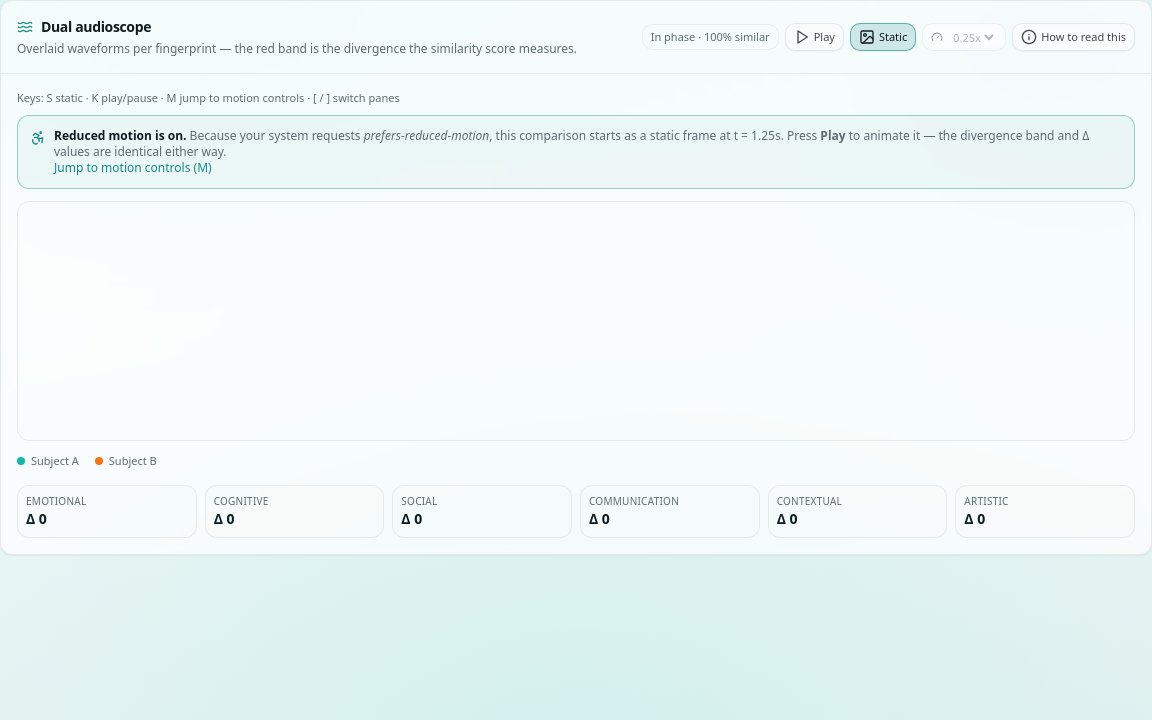
Test case: Dual audioscope Static parity › Play leaves Static and Static halts motion, persisting the choice
The width and height of the screenshot is (1152, 720).
Later steps or results of the test are not shown.
What coordinates should you click on to do the following:
click the button "Play"
I would click on:
 (814, 37)
Its box is [785,23,844,51].
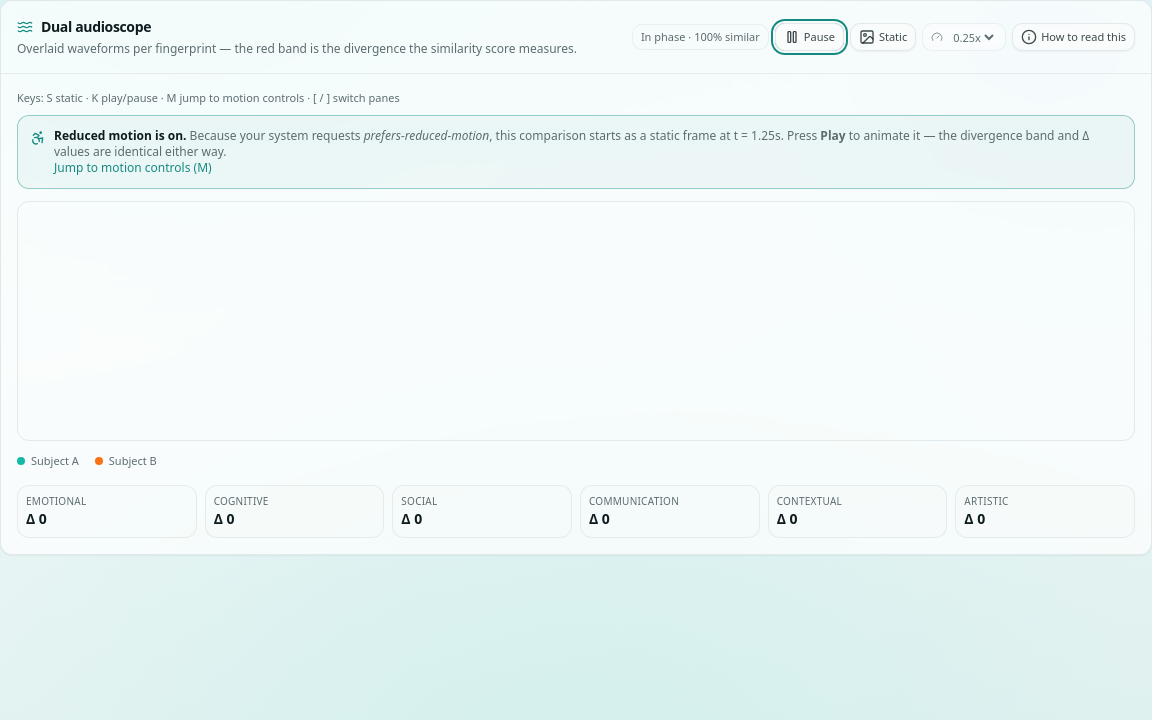
Check: the button "Pause" is shown, box [775,23,844,51]
What coordinates should you click on to do the following:
click the button "Static"
I would click on:
 (883, 37)
Its box is [850,23,916,51].
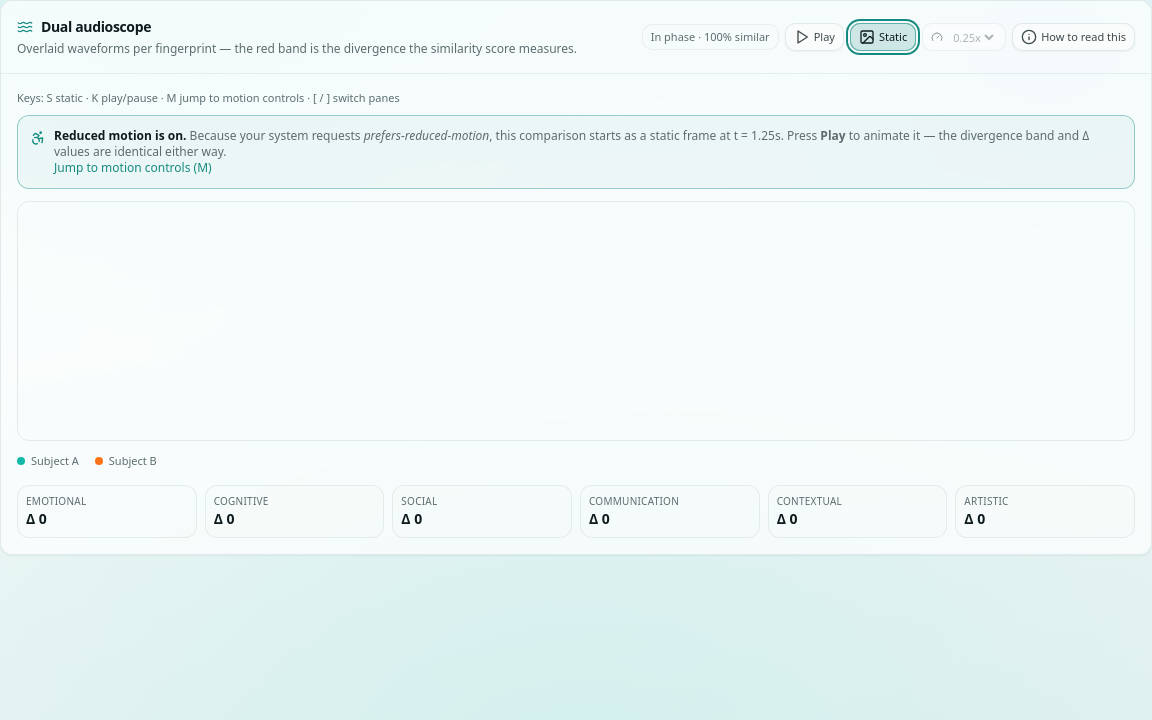
Check: the button "Play" is shown, box [785,23,844,51]
